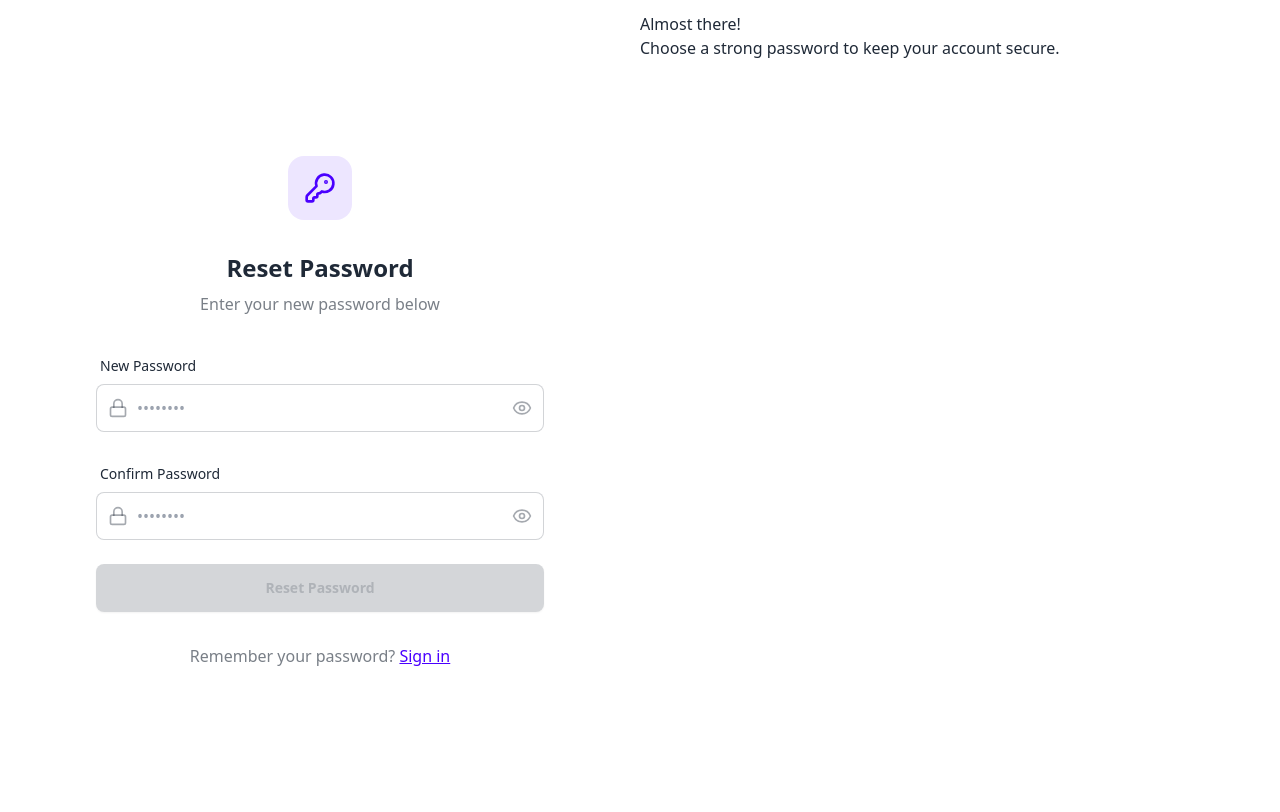
Test case: ResetPassword Page › Reset Mode (with token) › should show success message after password reset
This screenshot has width=1280, height=812.
In the 1st password field with placeholder "••••••••": (320, 408) top-left (96, 384), bottom-right (544, 432), type "NewPass123!"
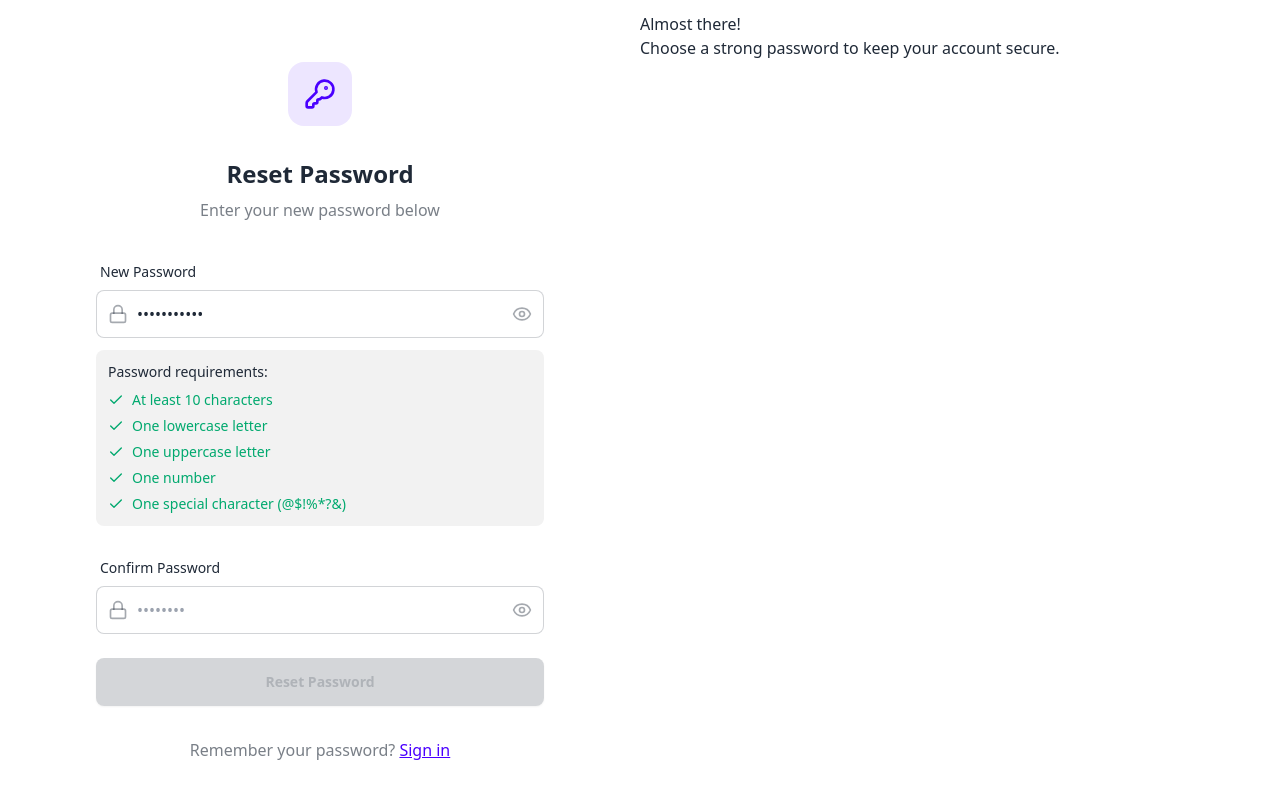
In the password field with placeholder "••••••••": (320, 610) top-left (96, 586), bottom-right (544, 634), type "NewPass123!"
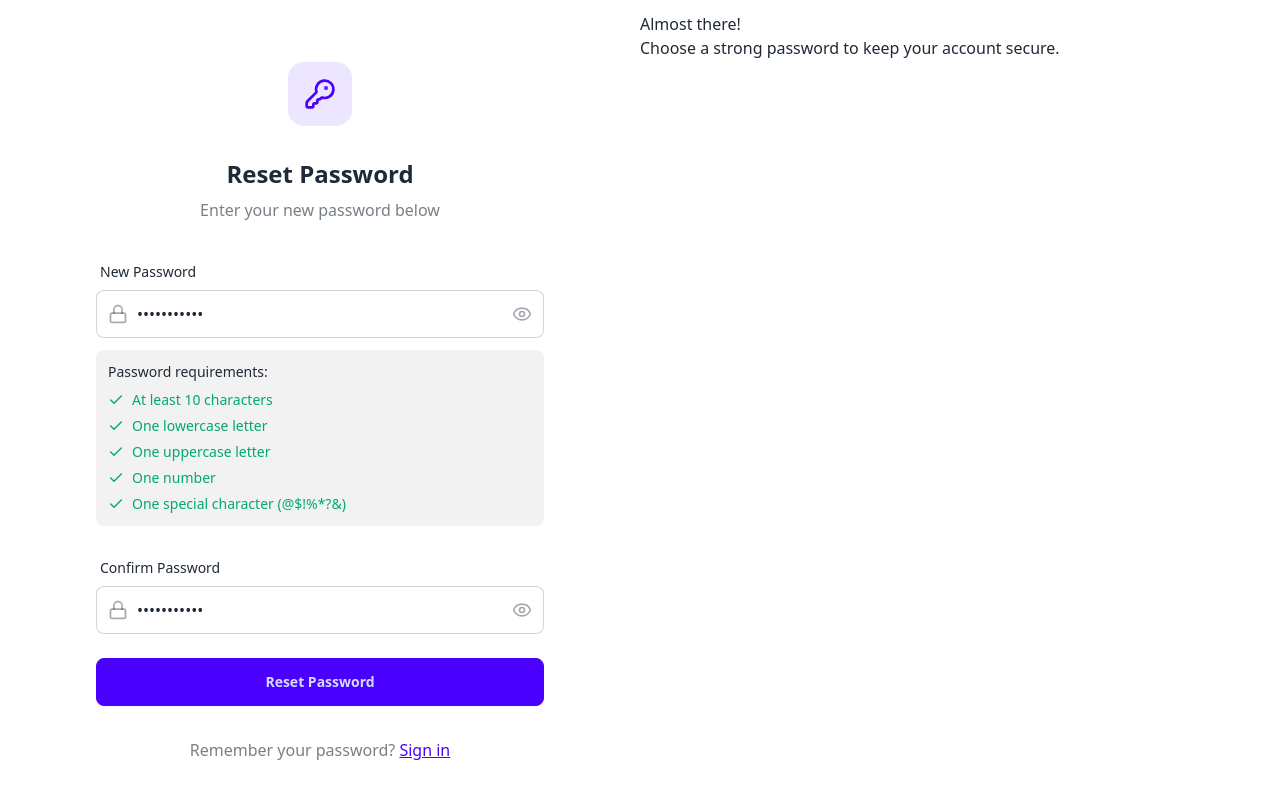
Click the button "Reset Password": (320, 682) top-left (96, 658), bottom-right (544, 706)
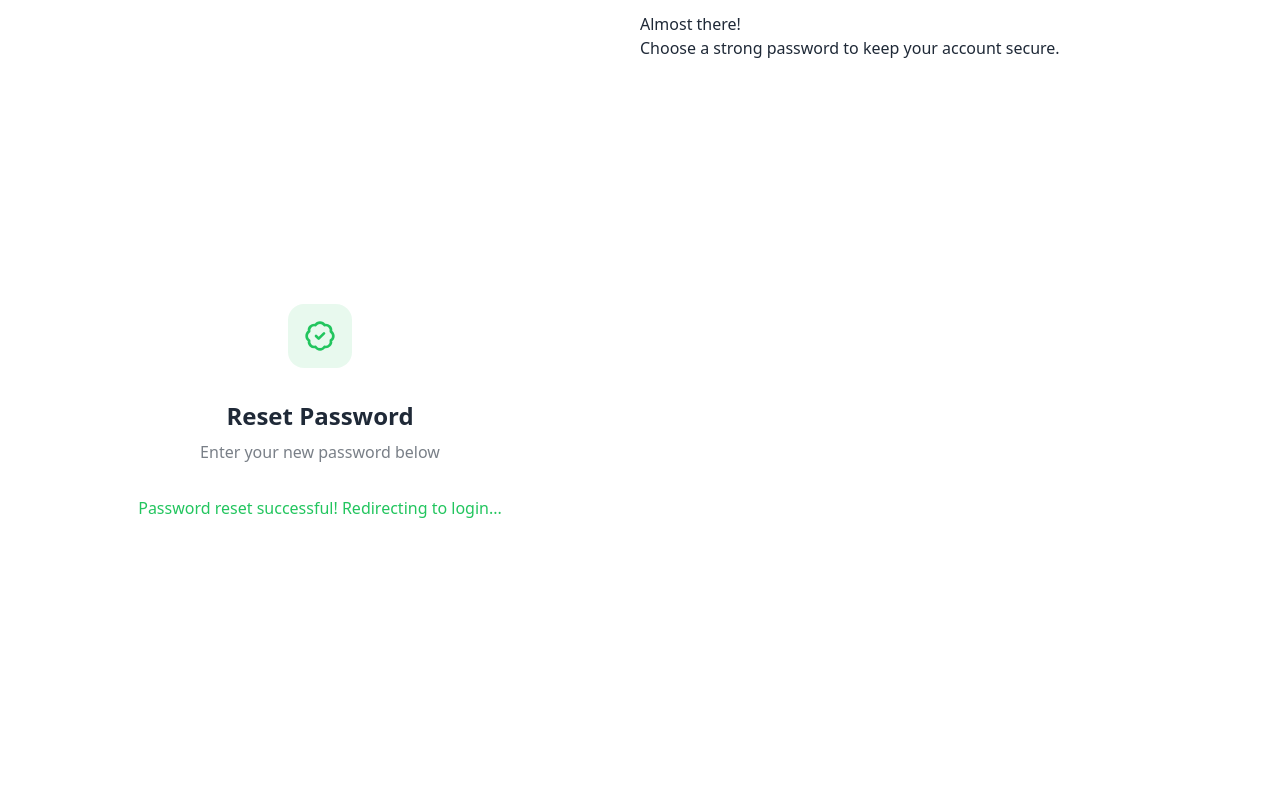
Now the text "Password reset successful! Redirecting to login..." is shown, box top-left (138, 497), bottom-right (502, 519)
